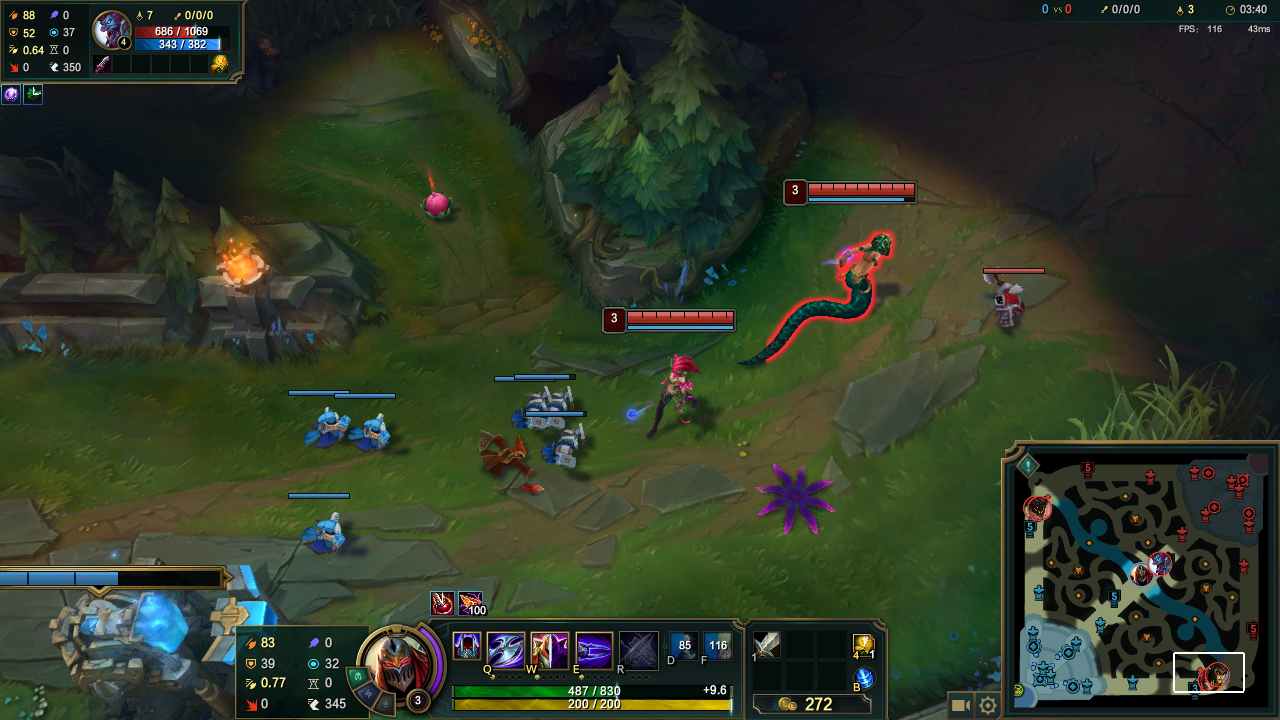DFYX: (809, 182, 917, 195), (627, 311, 736, 323)
